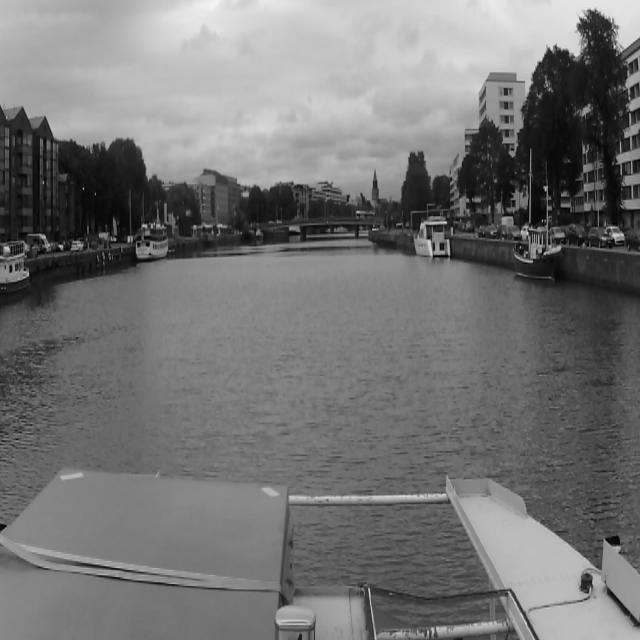ship: (513, 148, 563, 284), (134, 200, 168, 264), (414, 213, 450, 260), (208, 236, 218, 246)
